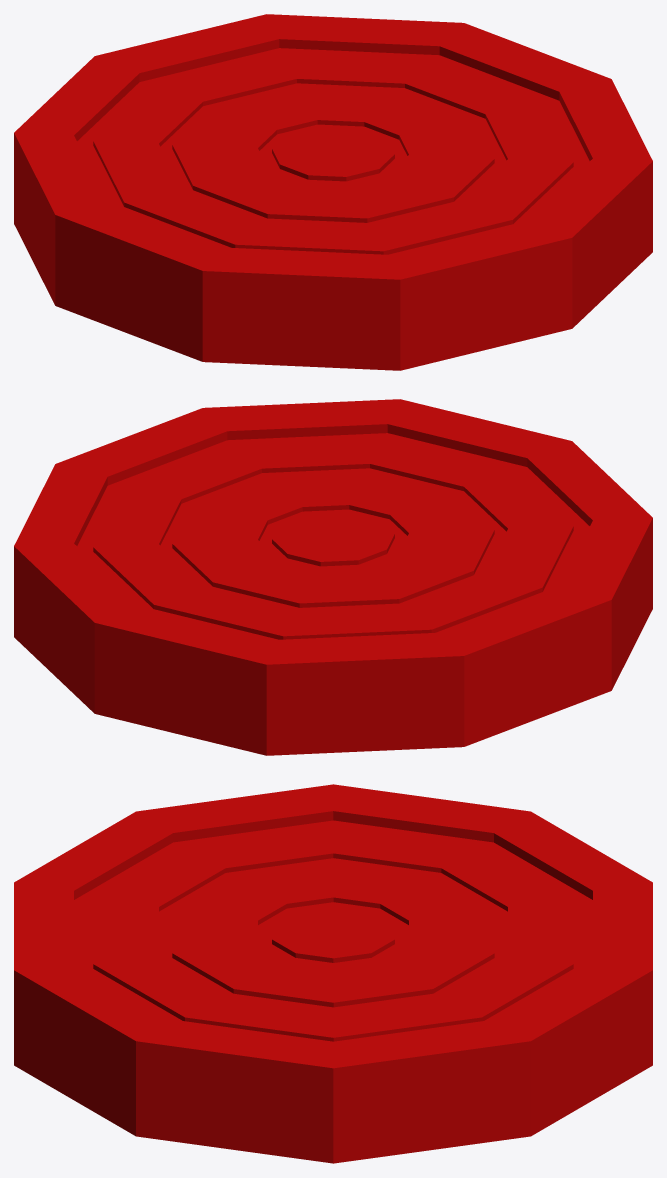
File: Game_Checkers_Red_Upright_01.fbx
3 views of the same model, one above another, from view 1: azimuth 30°, elevation 25°; view 2: azimuth 150°, elevation 25°; view 3: azimuth 270°, elevation 25° (orthographic). The views are drawn at different scales.
Visible parts, largest first — view 1: Model; view 2: Model; view 3: Model.
Boxes of the visible parts, x1,y1,x2,y2 form: Model: [14, 14, 652, 370]; Model: [14, 399, 652, 755]; Model: [14, 784, 652, 1163].
Size of the model in its own units: 666 by 104 by 633.
